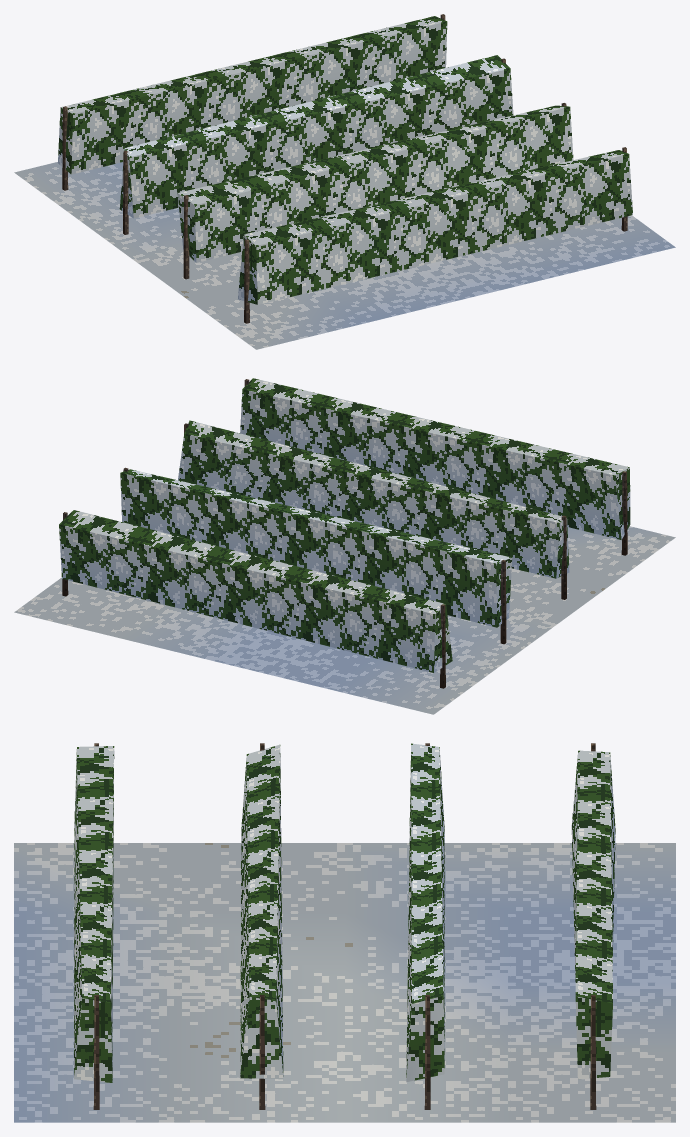
File: mnat.field__vines.glb
3 renders of one model, top to bottom at view 1: azimuth 30°, elevation 25°; view 2: azimuth 150°, elevation 25°; view 3: azimuth 270°, elevation 25°, orthographic. The views are drawn at different scales.
Parts seen in each view (by area): view 1: kit_crop, kit_shell_soil; view 2: kit_crop, kit_shell_soil; view 3: kit_shell_soil, kit_crop.
Part boxes in pixels (bbox=[...]): kit_crop: bbox=[58, 14, 632, 323]; kit_shell_soil: bbox=[14, 162, 675, 349]; kit_crop: bbox=[59, 378, 630, 688]; kit_shell_soil: bbox=[14, 526, 675, 714]; kit_shell_soil: bbox=[14, 843, 675, 1122]; kit_crop: bbox=[74, 743, 615, 1109].
Bounding box in the file's own units: 8 × 1.51 × 8.
3 materials, 3 textured.
